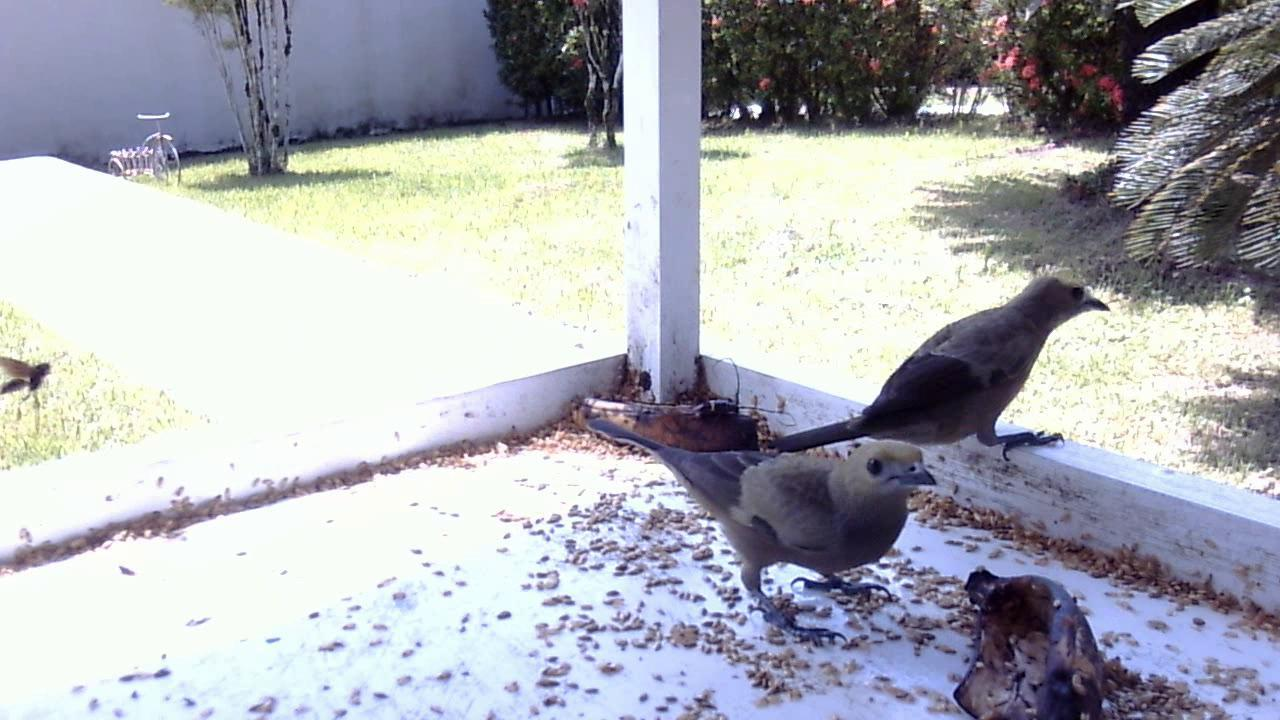sanhaco_do_coqueiro: (584, 417, 945, 639), (756, 270, 1120, 472)
